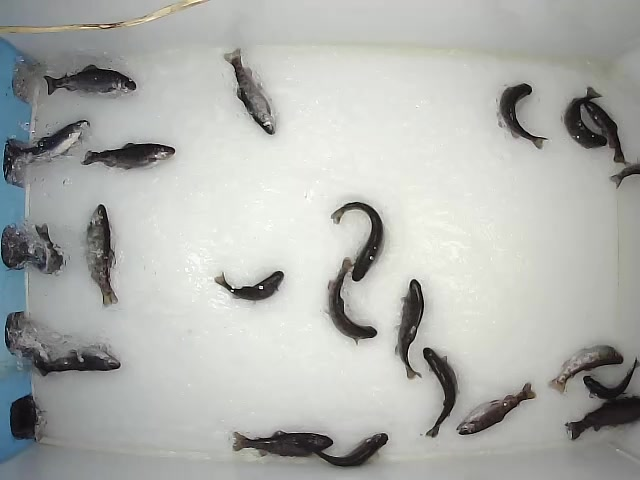fish: (223, 47, 278, 137), (324, 254, 378, 345), (330, 200, 387, 284), (455, 381, 538, 437), (82, 202, 121, 310), (546, 341, 625, 394), (8, 118, 90, 167), (498, 82, 551, 152), (421, 347, 460, 440), (563, 396, 640, 441), (43, 64, 138, 99), (393, 278, 424, 381), (301, 432, 389, 468), (230, 428, 335, 458), (78, 142, 177, 172), (583, 99, 627, 166), (563, 86, 608, 151), (33, 346, 123, 378), (583, 356, 640, 400), (213, 269, 286, 303), (32, 222, 71, 281)
